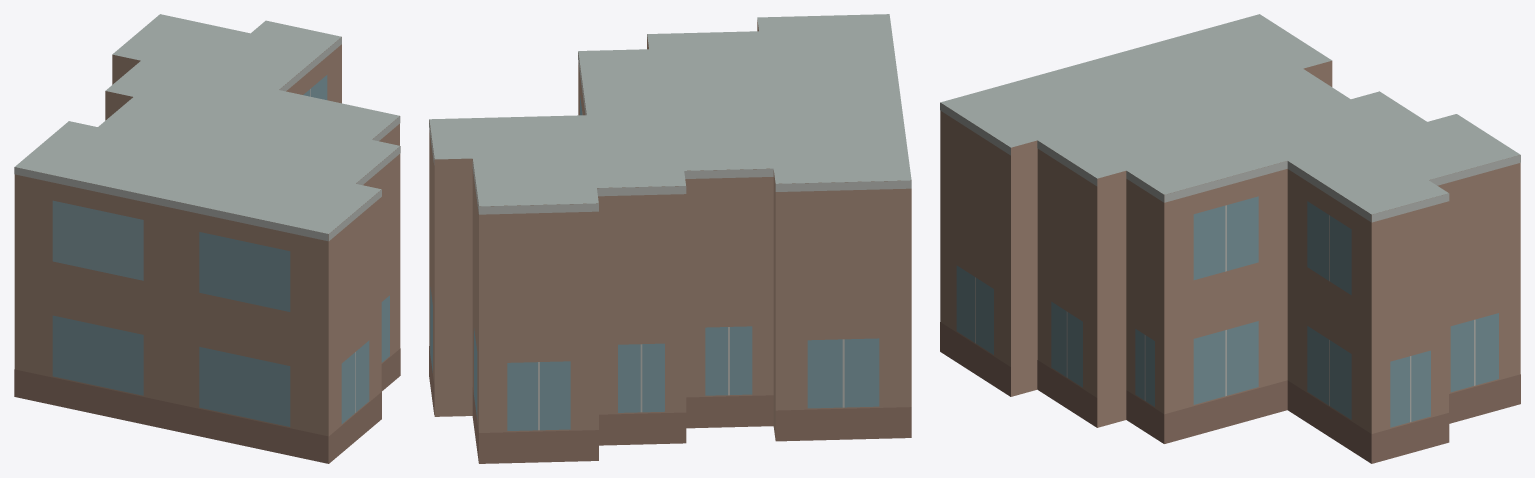
Rendered from survey-upis-32616018.glb.
The picture shows the model from 3 angles, left to right: view 1: azimuth 30°, elevation 25°; view 2: azimuth 150°, elevation 25°; view 3: azimuth 270°, elevation 25°; orthographic projection. The views are drawn at different scales.
Visible parts, largest first — view 1: survey-upis-32616018.tmp; view 2: survey-upis-32616018.tmp; view 3: survey-upis-32616018.tmp.
Part boxes in pixels (x1,y1,x2,y2): survey-upis-32616018.tmp: (14, 14, 400, 463); survey-upis-32616018.tmp: (429, 14, 911, 463); survey-upis-32616018.tmp: (940, 14, 1520, 463).
Size of the model in its own units: 13.12 by 7.6 by 16.05.
